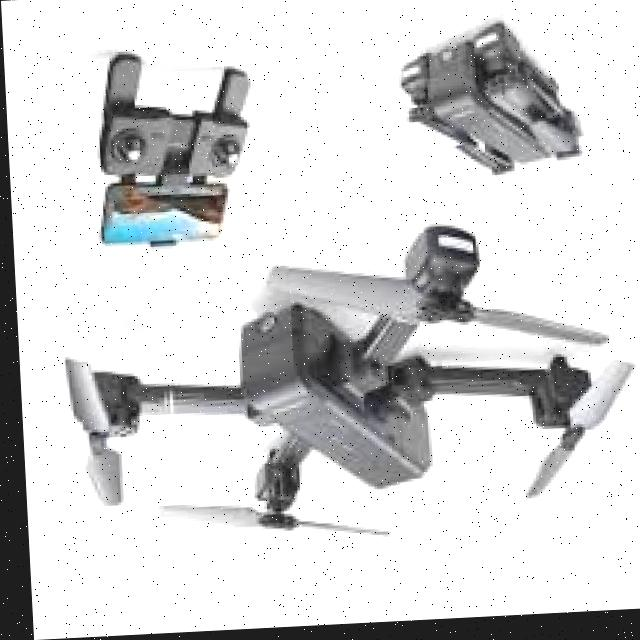drone: (10, 216, 640, 574)
